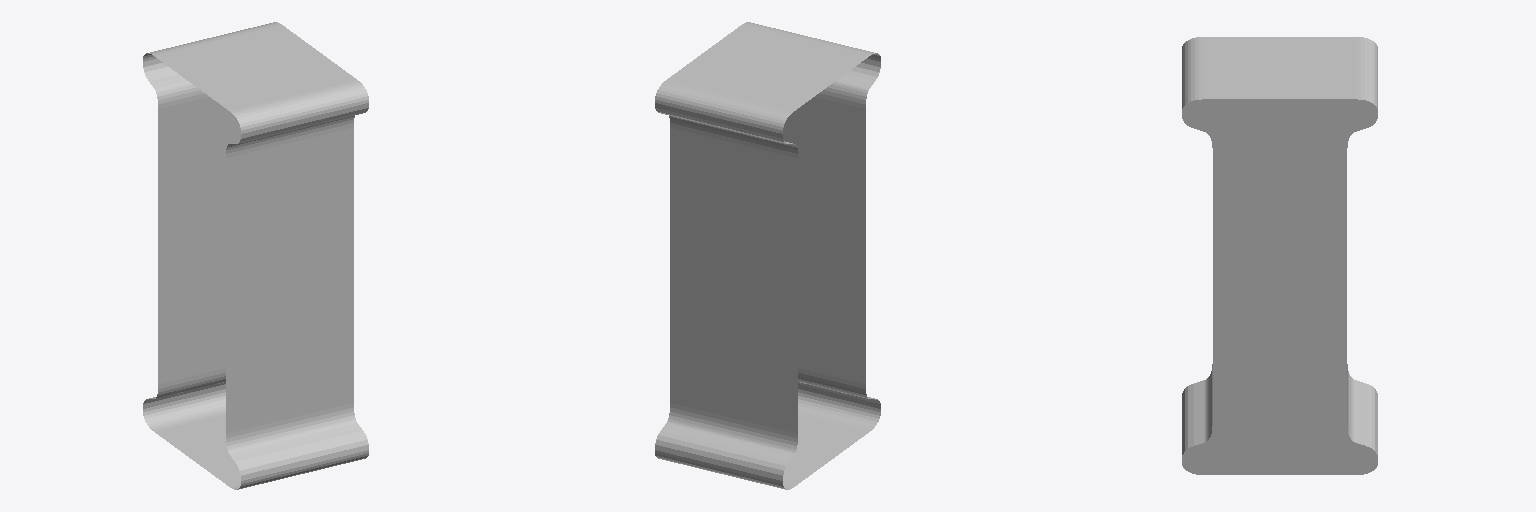
File: typemesh_I.obj
3 views of the same model, side by side, from view 1: azimuth 30°, elevation 25°; view 2: azimuth 150°, elevation 25°; view 3: azimuth 270°, elevation 25° (orthographic).
Parts seen in each view (by area): view 1: typeMesh_I group2; view 2: typeMesh_I group2; view 3: typeMesh_I group2.
Boxes of the visible parts, box(x1,y1,x2,y2) form: typeMesh_I group2: box(143, 22, 368, 489); typeMesh_I group2: box(655, 22, 880, 489); typeMesh_I group2: box(1182, 37, 1377, 474).
Bounding box in the file's own units: 0.0717 × 0.2008 × 0.0953.